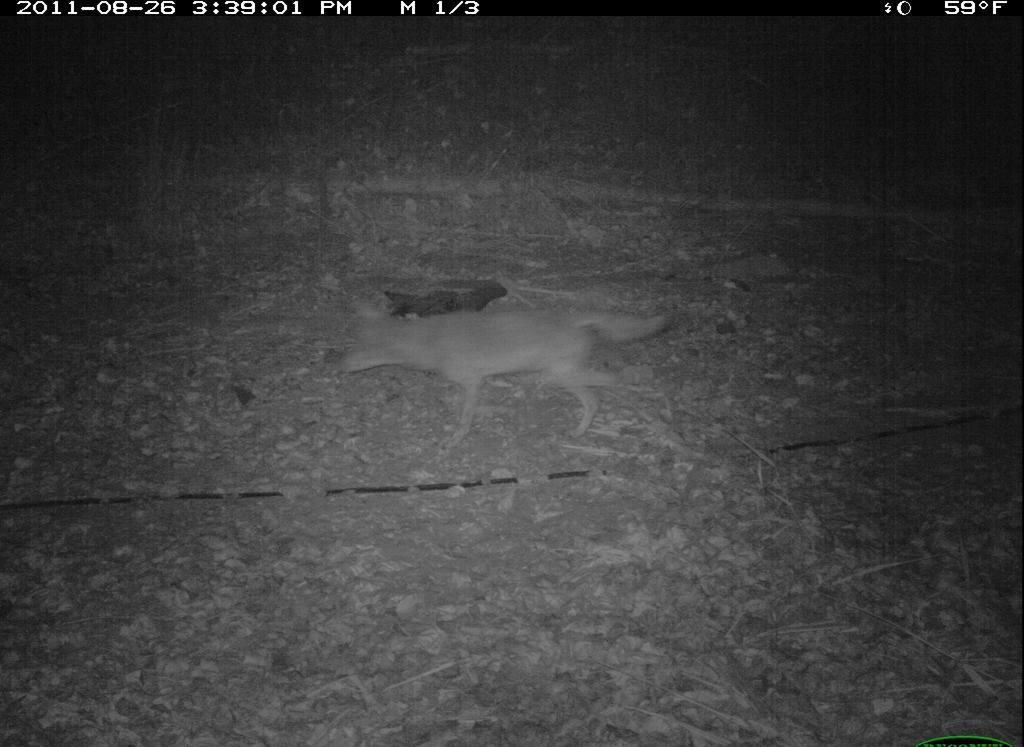coyote: (306, 281, 692, 463)
